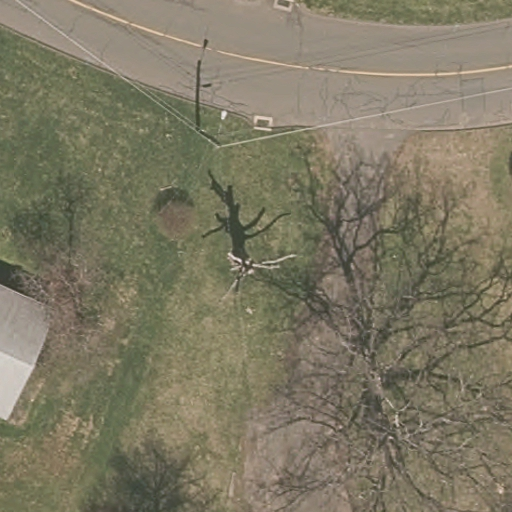DT: (204, 110, 229, 150)
